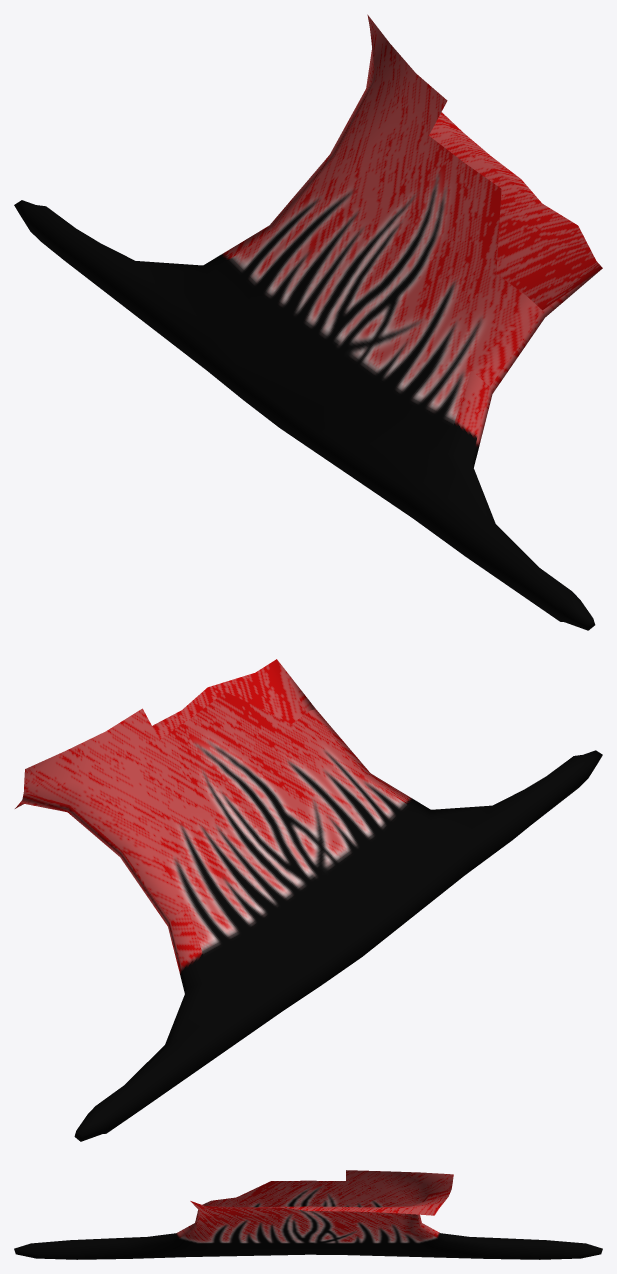
The model's file is DroneDestructionPart1.fbx.
3 renders of one model, top to bottom at view 1: azimuth 30°, elevation 25°; view 2: azimuth 150°, elevation 25°; view 3: azimuth 270°, elevation 25°, orthographic. The views are drawn at different scales.
Parts seen in each view (by area): view 1: Base; view 2: Base; view 3: Base.
Boxes of the visible parts, <box> form: Base: <box>14,14,602,630</box>; Base: <box>15,659,602,1141</box>; Base: <box>14,1170,602,1259</box>.
Size of the model in its own units: 3.85 by 3.68 by 14.43.
1 material, 1 textured.
